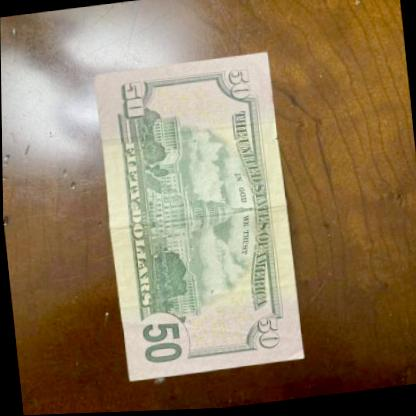fifty-back: (93, 50, 306, 385)
